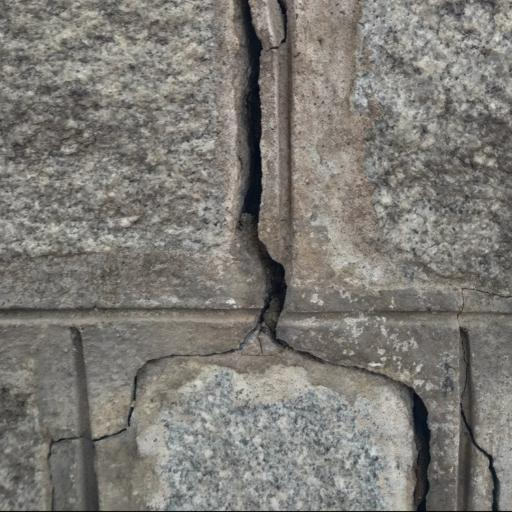major_crack: (182, 0, 449, 512), (29, 310, 239, 512), (449, 350, 511, 512)
